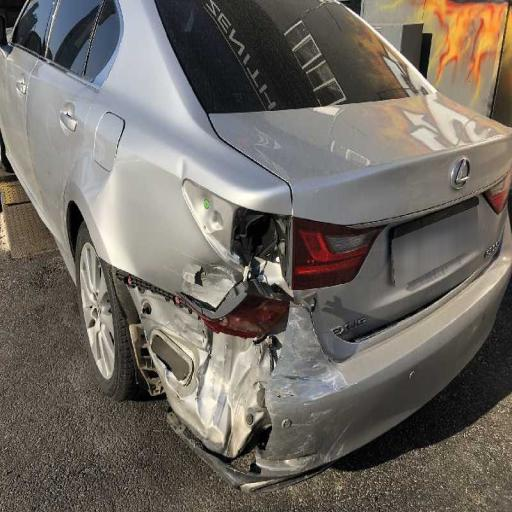broken: (87, 117, 350, 485)
